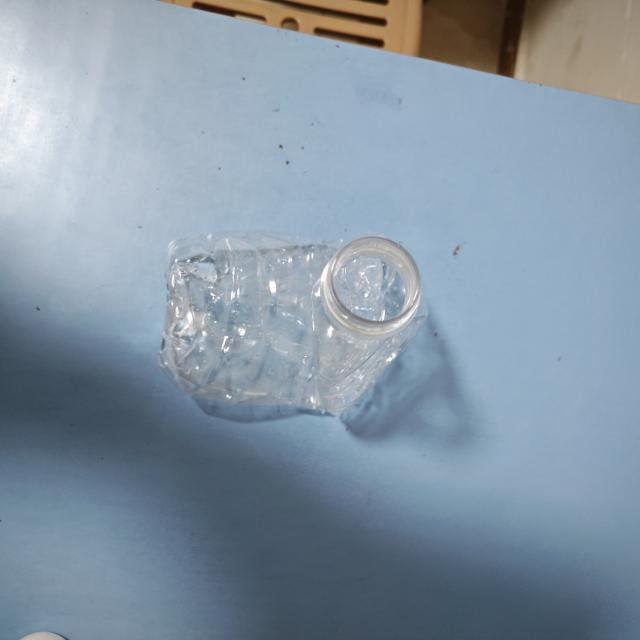-Recyclables - plastic bottle-: (161, 232, 431, 418)
